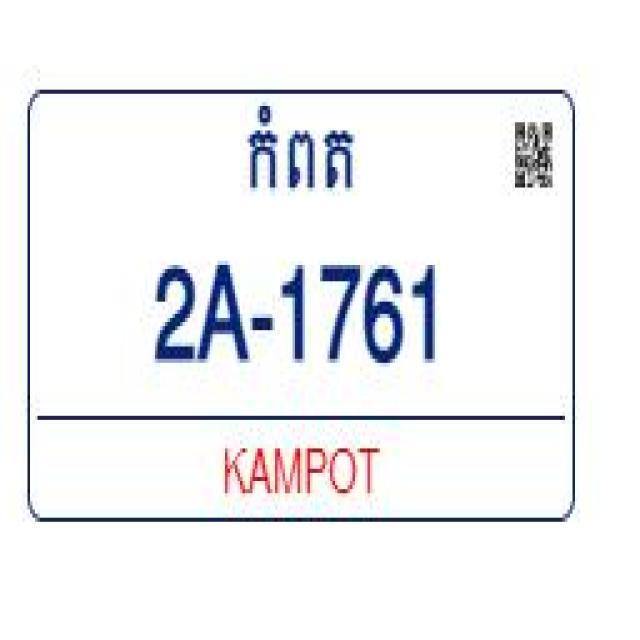Kampot: (245, 98, 357, 200)
